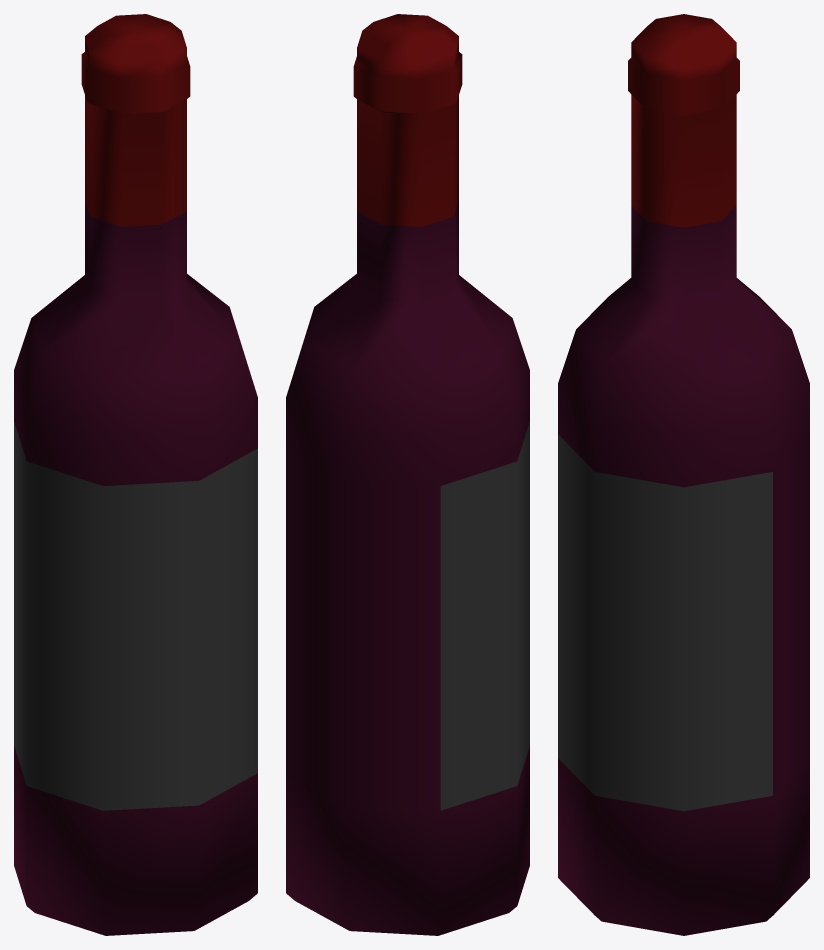
The model's file is WineBottle.fbx.
The picture shows the model from 3 angles, left to right: view 1: azimuth 30°, elevation 25°; view 2: azimuth 150°, elevation 25°; view 3: azimuth 270°, elevation 25°; orthographic projection.
Visible parts, largest first — view 1: polySurface2; view 2: polySurface2; view 3: polySurface2.
Boxes of the visible parts, x1,y1,x2,y2 form: polySurface2: [14, 14, 257, 935]; polySurface2: [286, 14, 529, 935]; polySurface2: [558, 14, 809, 935].
Bounding box in the file's own units: 0.6166 × 2.31 × 0.6166.
